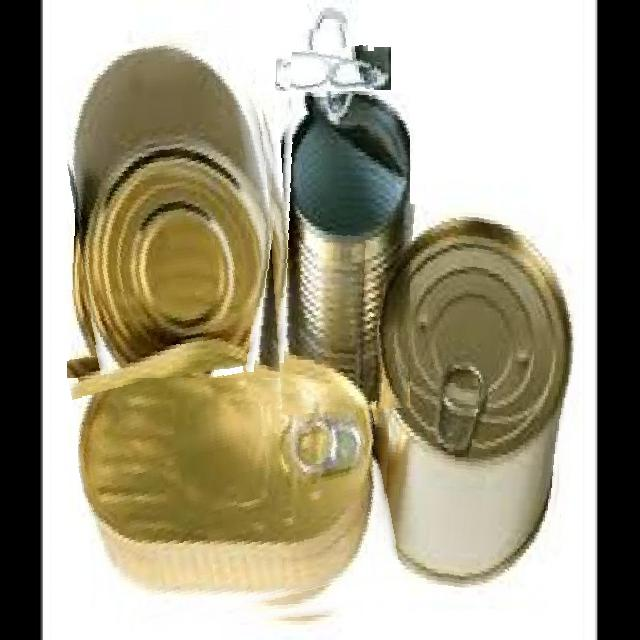recyclable: (78, 320, 395, 634), (362, 205, 580, 588), (67, 32, 292, 378), (261, 91, 410, 415), (283, 23, 374, 114)
